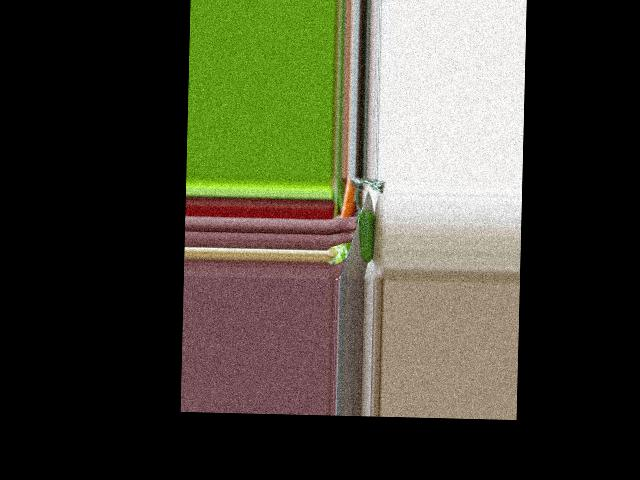cucumber: (358, 208, 375, 262)
